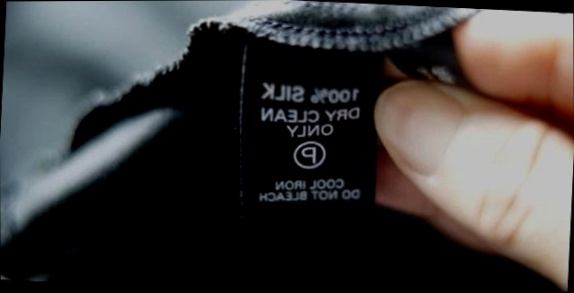dry_clean_any_solvent_except_trichloroethylene: (291, 138, 327, 170)
